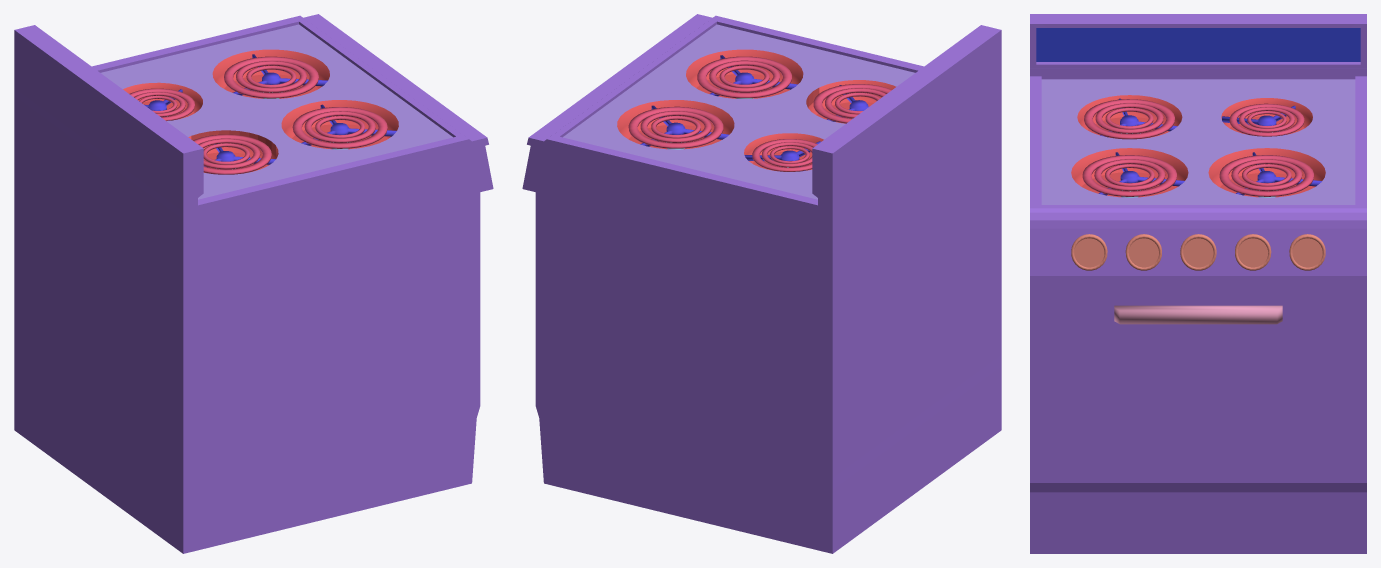
The model's file is stove.gltf.
The picture shows the model from 3 angles, left to right: view 1: azimuth 30°, elevation 25°; view 2: azimuth 150°, elevation 25°; view 3: azimuth 270°, elevation 25°; orthographic projection.
Parts seen in each view (by area): view 1: stove; view 2: stove; view 3: stove.
Part boxes in pixels (x1,y1,x2,y2): stove: (14, 14, 493, 553); stove: (522, 14, 1001, 553); stove: (1030, 14, 1366, 553).
Bounding box in the file's own units: 2.56 × 3.11 × 2.38.
